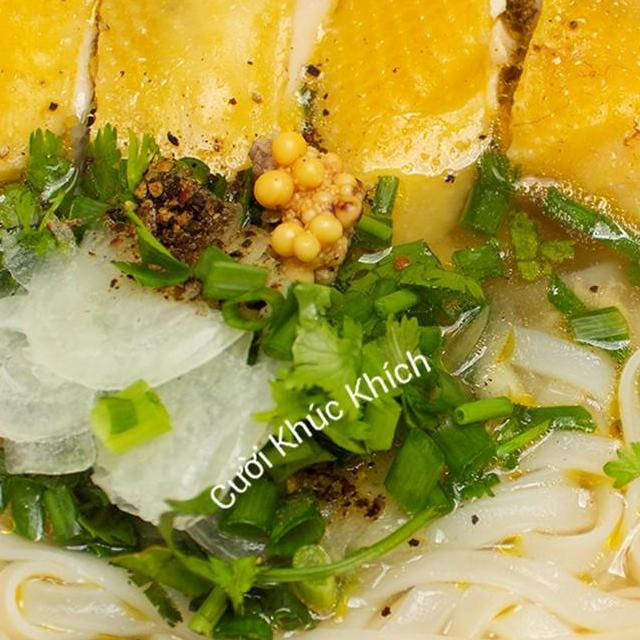banh pho: (400, 159, 640, 638), (0, 465, 640, 640)
pho ga: (0, 0, 640, 640)
thit ga: (291, 0, 536, 316), (79, 0, 368, 226), (489, 0, 640, 274), (0, 0, 148, 228)
